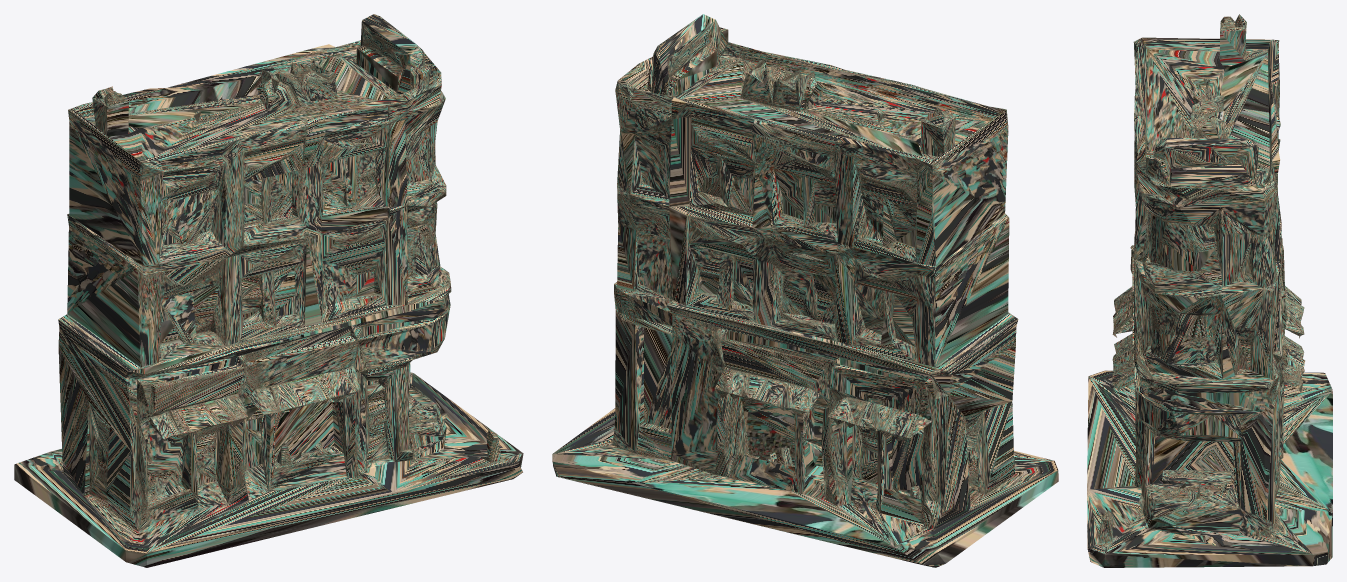
File: town_shops_modern.glb
3 renders of one model, left to right at view 1: azimuth 30°, elevation 25°; view 2: azimuth 150°, elevation 25°; view 3: azimuth 270°, elevation 25°, orthographic. The views are drawn at different scales.
Visible parts, largest first — view 1: normalize; view 2: normalize; view 3: normalize.
Boxes of the visible parts, box(x1,y1,x2,y2) form: normalize: box(14, 14, 523, 567); normalize: box(552, 14, 1058, 567); normalize: box(1087, 14, 1332, 567).
Size of the model in its own units: 1 by 1.01 by 0.564.
1 material, 1 textured.
